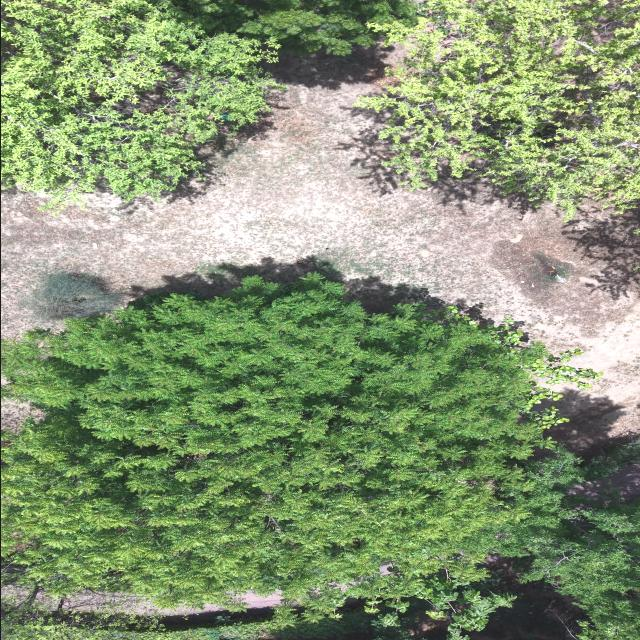DRY_AREA: (1, 49, 639, 453), (36, 591, 227, 622)
VEGETATION_TREE: (1, 273, 639, 639), (1, 277, 639, 639), (1, 276, 598, 623), (1, 0, 639, 216), (1, 0, 414, 212), (357, 0, 639, 218), (1, 0, 275, 209), (427, 443, 639, 639), (465, 442, 639, 639), (1, 603, 416, 639), (174, 0, 414, 53), (1, 597, 170, 639), (27, 273, 120, 322), (1, 623, 221, 639)
